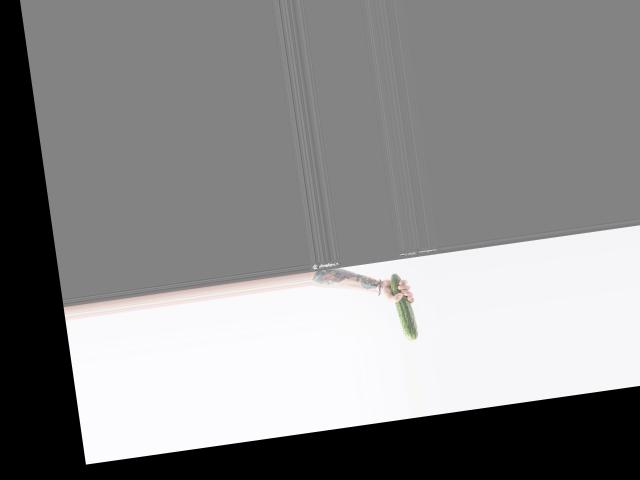cucumber: (389, 271, 419, 342)
